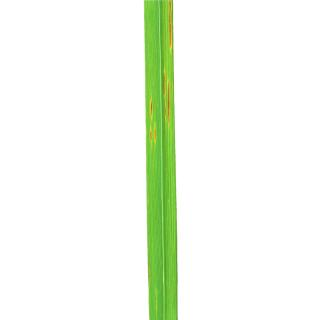Bercak-Cokelat-Sempit: (165, 0, 174, 55), (167, 80, 172, 127), (162, 67, 167, 100), (149, 95, 155, 121), (153, 122, 159, 147), (149, 125, 153, 148), (163, 104, 167, 119)
